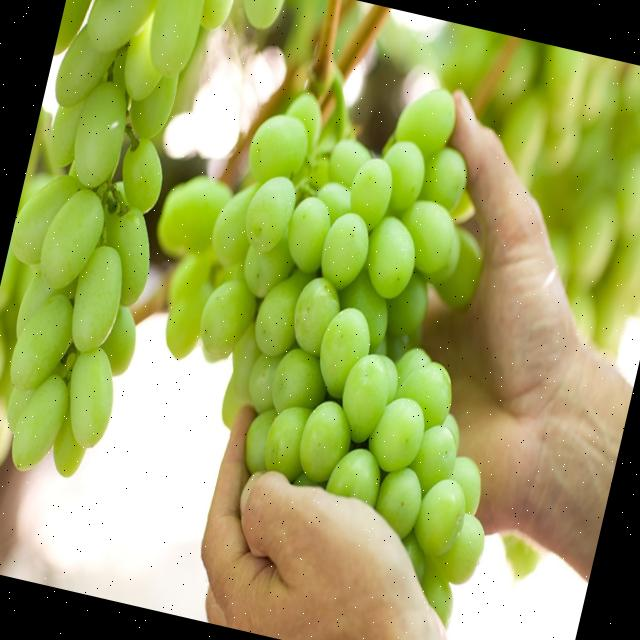grape: (157, 87, 482, 620), (4, 0, 232, 473), (244, 0, 281, 24)
